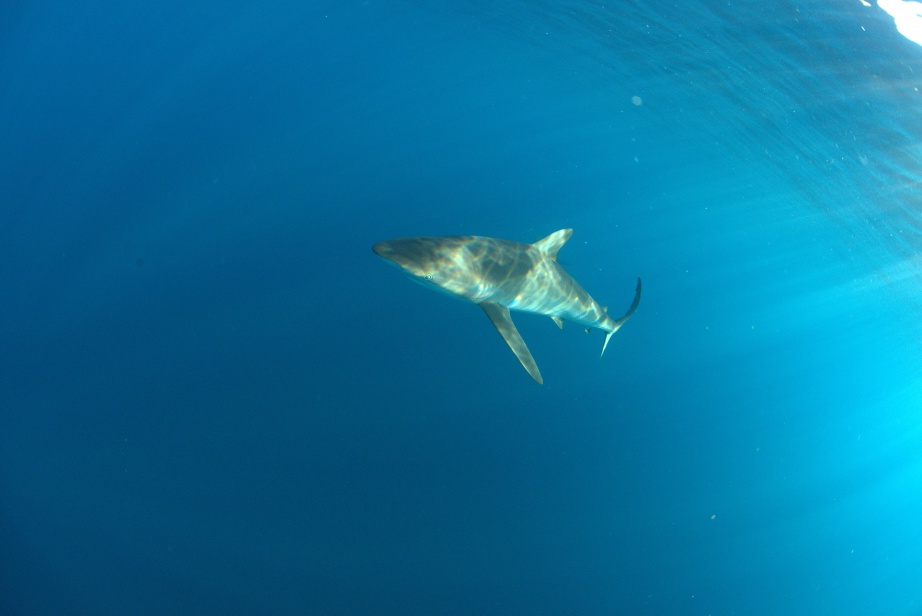Sedoso: (329, 217, 683, 397)
